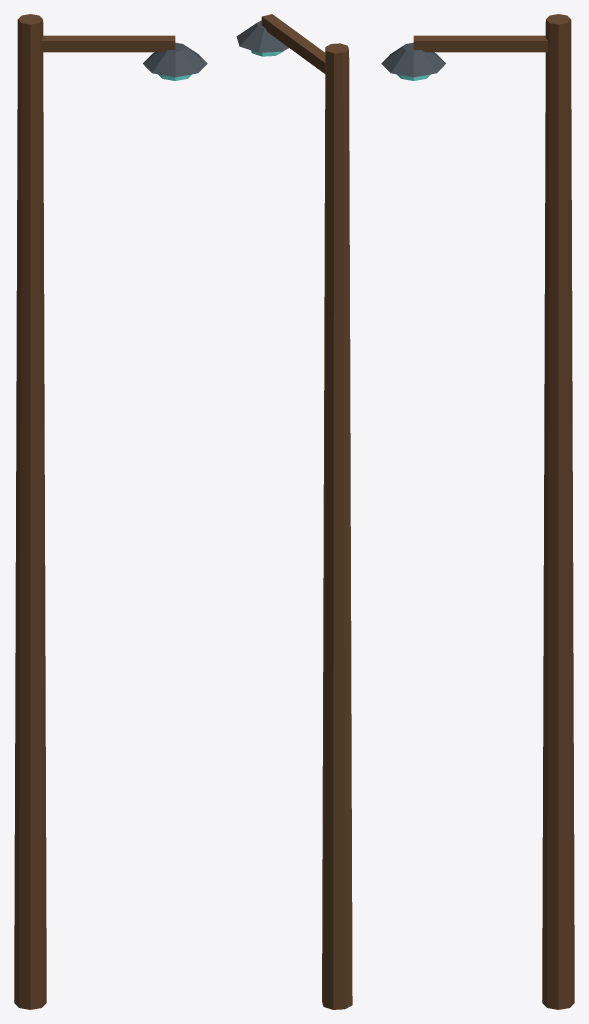
File: GL_PoleLamp_01.glb
3 views of the same model, side by side, from view 1: azimuth 90°, elevation 25°; view 2: azimuth 210°, elevation 25°; view 3: azimuth 270°, elevation 25° (orthographic). The views are drawn at different scales.
Visible parts, largest first — view 1: GL_PoleLamp_01; view 2: GL_PoleLamp_01; view 3: GL_PoleLamp_01.
Part boxes in pixels (left/top/right/bottom): GL_PoleLamp_01: left=14, top=14, right=207, bottom=1009; GL_PoleLamp_01: left=236, top=14, right=352, bottom=1009; GL_PoleLamp_01: left=381, top=14, right=574, bottom=1009.
Bounding box in the file's own units: 0.36 × 6 × 1.07.
1 material, 1 textured.
